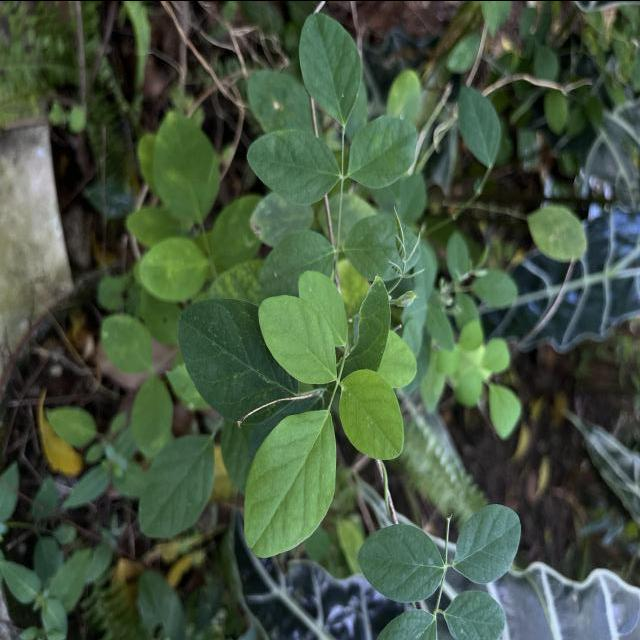Clitoria ternatea: (243, 408, 338, 558), (257, 292, 337, 384), (356, 521, 444, 603), (338, 368, 405, 460), (451, 502, 522, 584)
